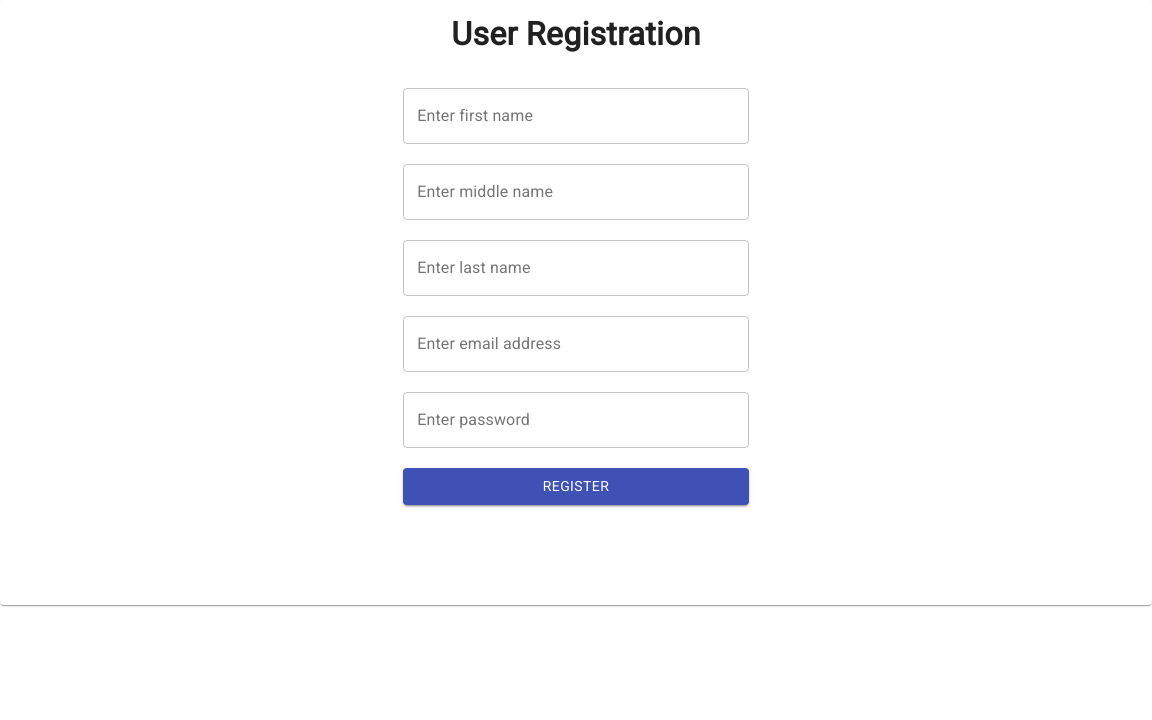
it: Register container test › show minimum character error message for password
Type "pass" into the password field with placeholder "Enter password".
click(576, 420); type("pass")  # box top-left (403, 392), bottom-right (749, 448)
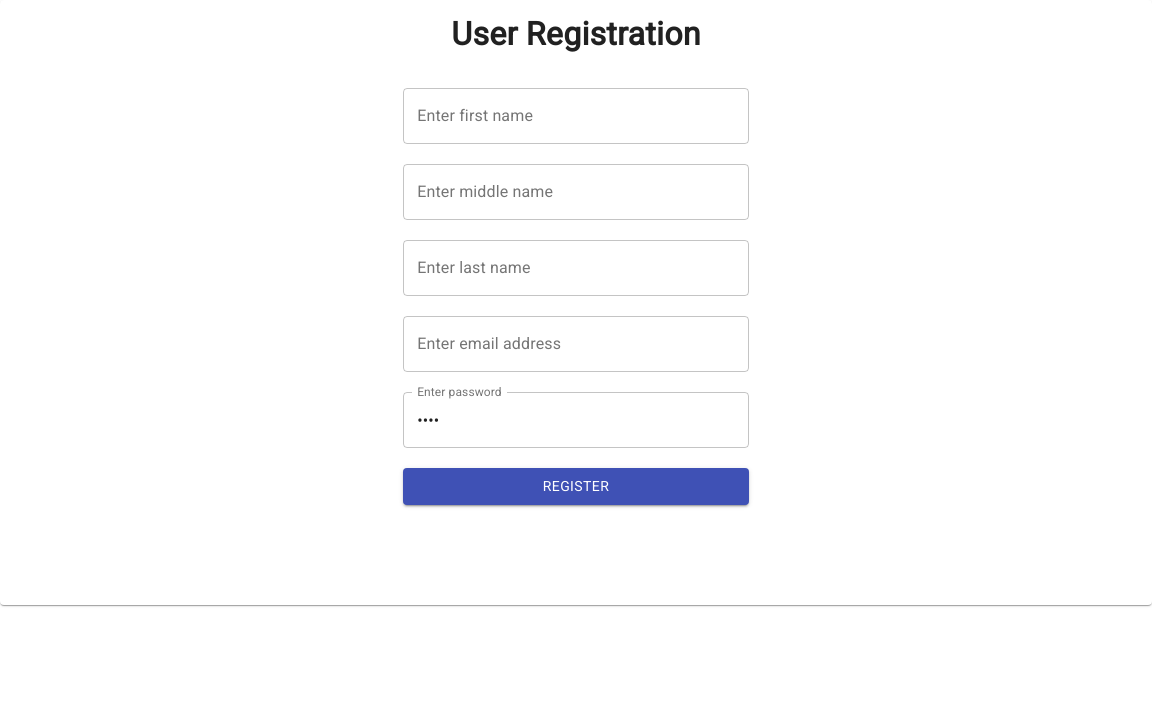
Submit the form from the button "Register", box top-left (403, 468), bottom-right (749, 504)
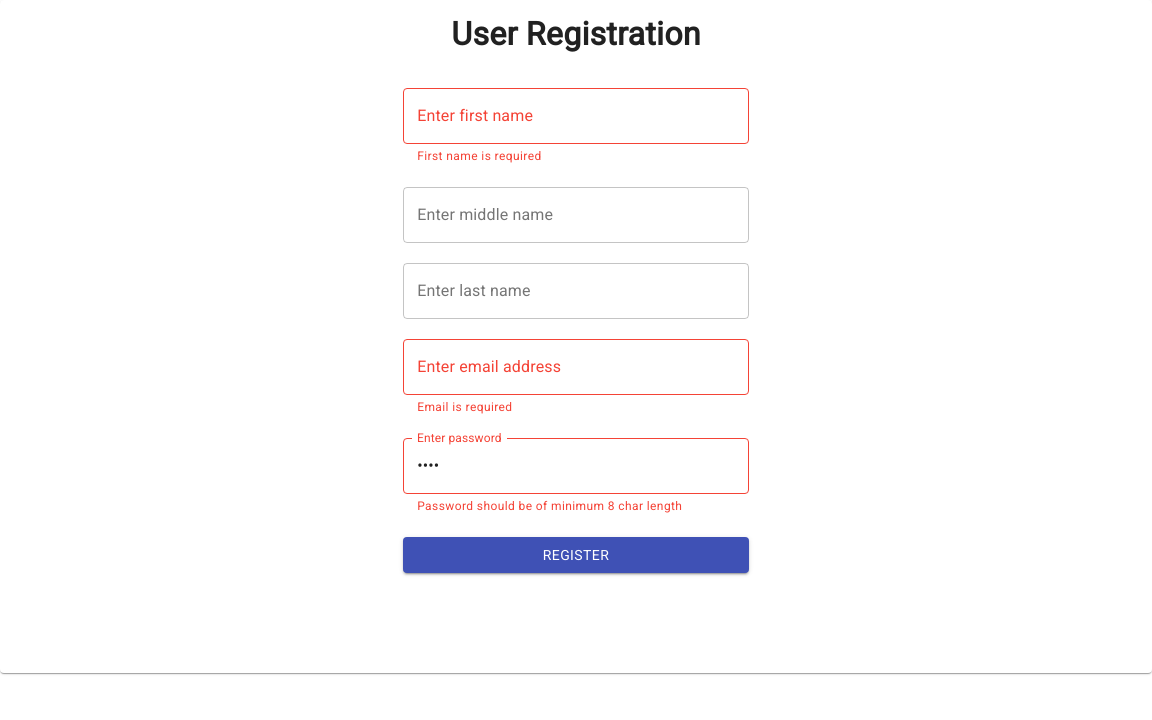
Check: the text "Password should be of minimum 8 char length" is shown, box top-left (417, 499), bottom-right (682, 513)
